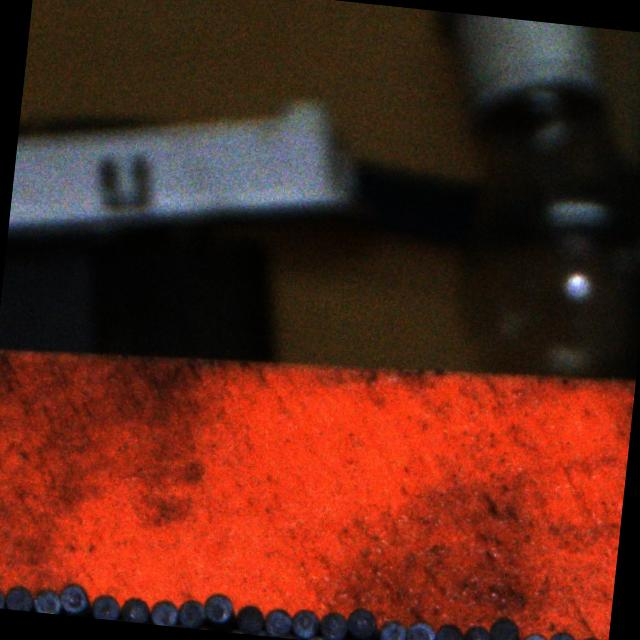tool: (344, 605, 378, 639), (203, 590, 234, 622), (59, 582, 90, 614), (176, 598, 206, 630), (236, 602, 266, 634), (292, 607, 321, 639), (264, 606, 294, 636), (317, 610, 347, 640), (120, 596, 151, 624), (5, 584, 36, 612), (90, 592, 120, 620), (150, 598, 180, 626), (488, 614, 520, 640), (31, 588, 61, 614), (405, 619, 436, 640), (378, 618, 407, 640), (461, 622, 492, 640), (434, 622, 464, 640), (546, 628, 577, 640), (519, 630, 548, 640), (275, 631, 303, 640), (249, 628, 274, 637), (222, 626, 250, 634), (305, 634, 331, 640), (331, 637, 360, 640)
